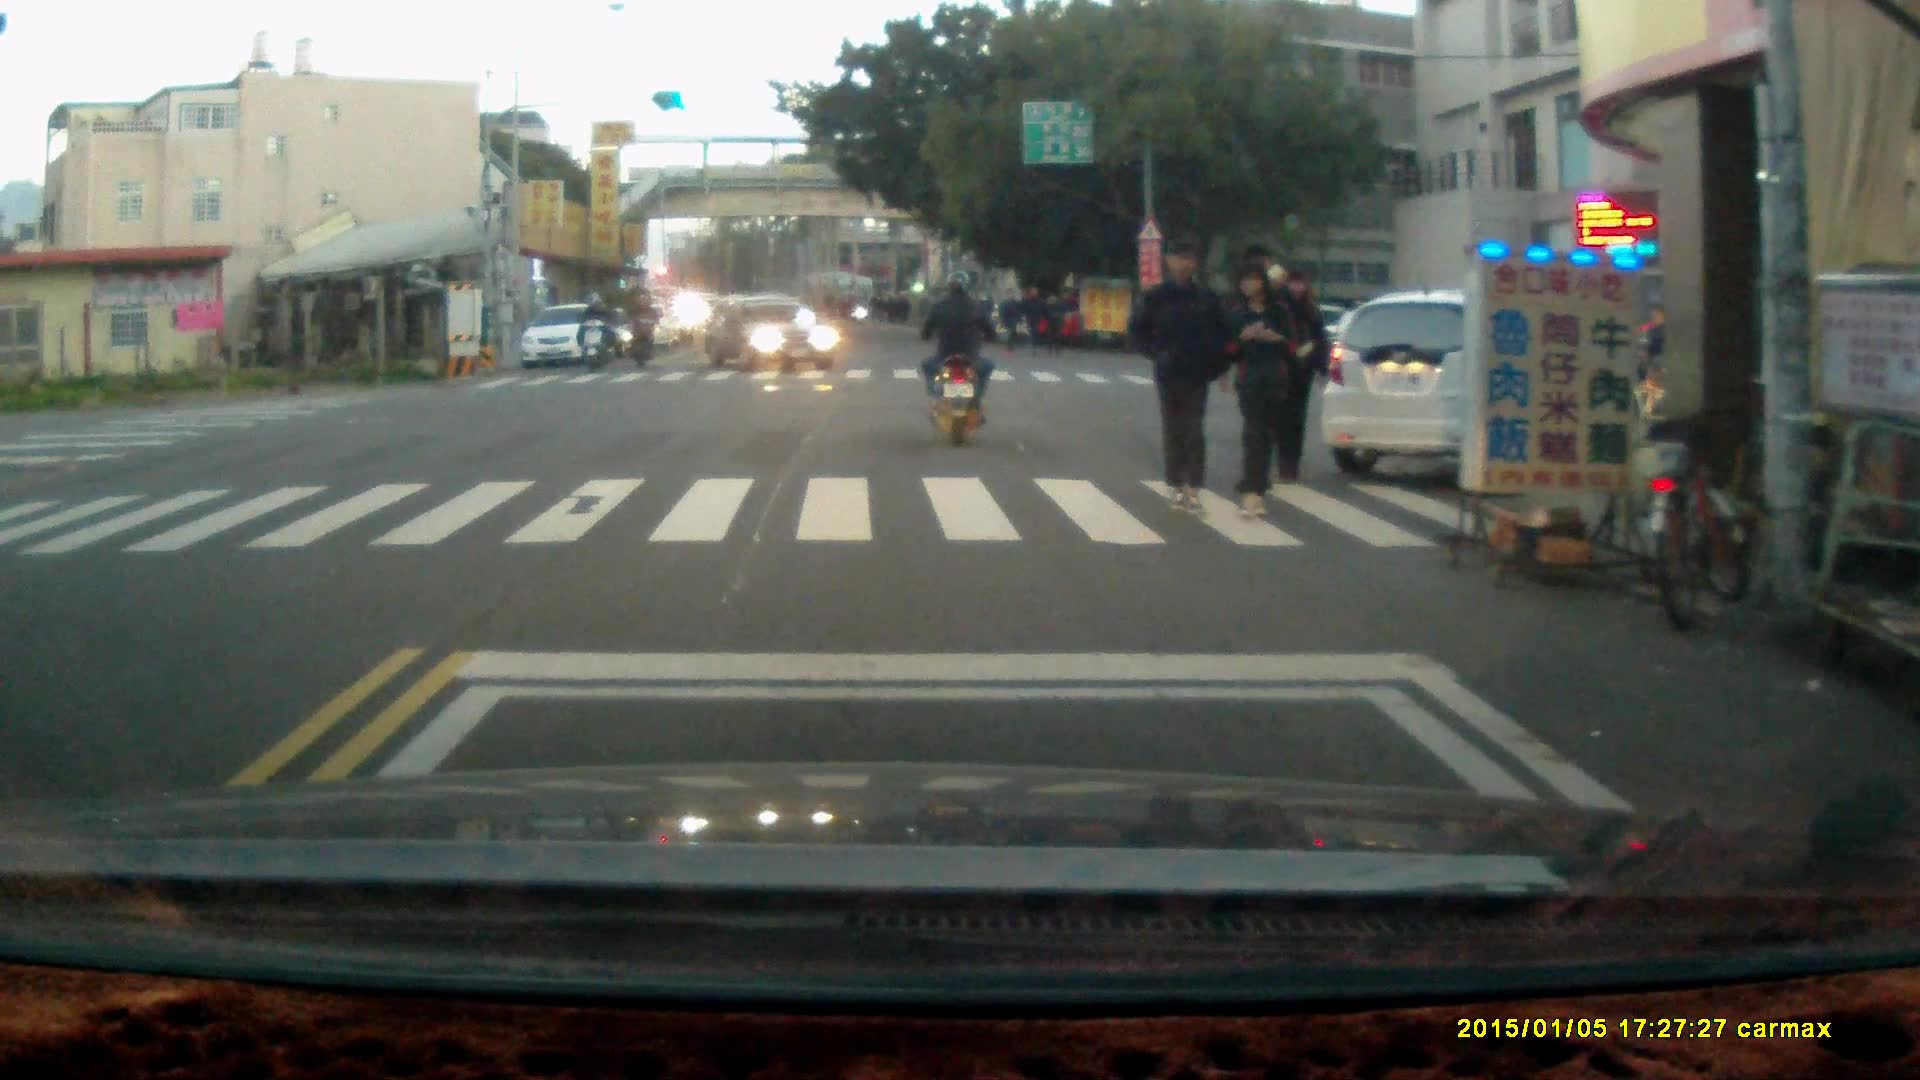pedestrian: (1131, 237, 1228, 518), (1223, 265, 1297, 523), (1641, 302, 1670, 392), (1019, 279, 1045, 355), (1038, 290, 1066, 358), (998, 284, 1022, 354)
rider: (921, 265, 992, 450), (626, 286, 662, 369), (577, 288, 611, 369)
vehicle: (1329, 303, 1663, 491), (699, 292, 841, 377), (521, 307, 615, 372)
